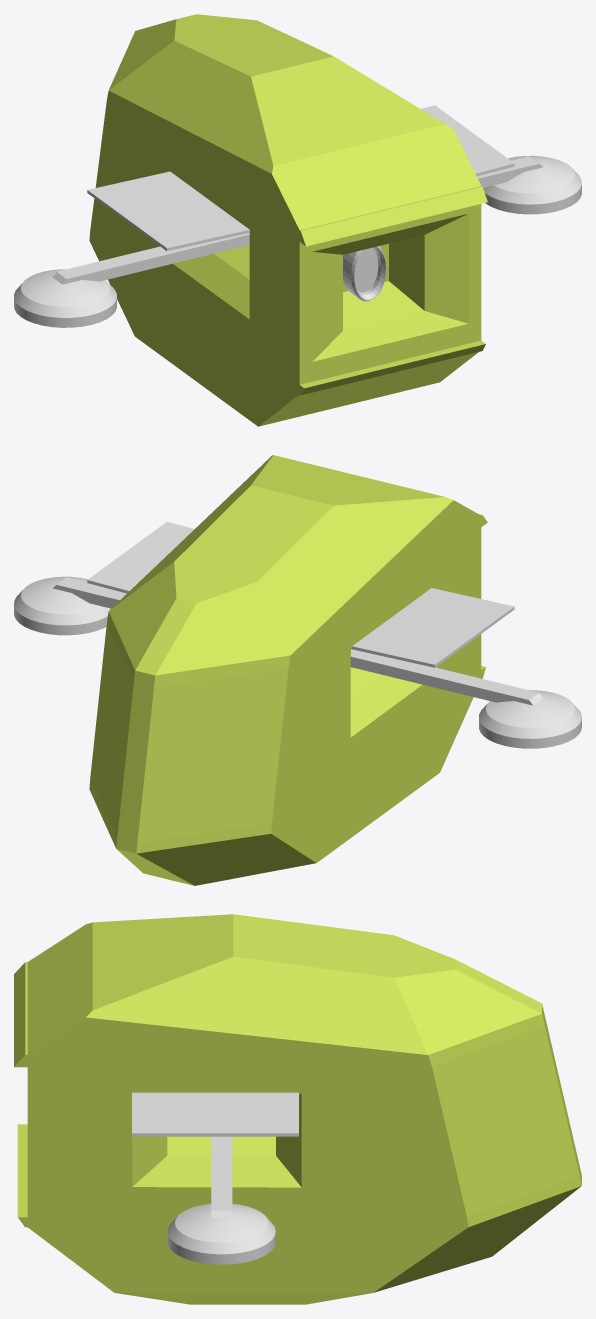
Rendered from shooterdrone.fbx.
3 renders of one model, top to bottom at view 1: azimuth 30°, elevation 25°; view 2: azimuth 150°, elevation 25°; view 3: azimuth 270°, elevation 25°, orthographic. The views are drawn at different scales.
Parts seen in each view (by area): view 1: DroneBody, Flap.001, Engine.001, Engine, EngineExtender.001, Cylinder, Flap, EngineExtender; view 2: DroneBody, Flap.001, Engine.001, Engine, EngineExtender.001, Flap, EngineExtender; view 3: DroneBody, Flap, Engine, EngineExtender.
Boxes of the visible parts, box(x1,y1,x2,y2) form: DroneBody: box(89, 14, 487, 426); Flap.001: box(87, 171, 249, 251); Engine.001: box(14, 269, 116, 327); Engine: box(483, 155, 581, 214); EngineExtender.001: box(52, 233, 249, 284); Cylinder: box(343, 246, 386, 301); Flap: box(421, 105, 514, 176); EngineExtender: box(477, 156, 542, 187); DroneBody: box(89, 455, 487, 885); Flap.001: box(351, 588, 514, 667); Engine.001: box(479, 690, 581, 748); Engine: box(14, 576, 110, 635); EngineExtender.001: box(350, 649, 543, 705); Flap: box(87, 521, 194, 593); EngineExtender: box(53, 577, 126, 608); DroneBody: box(14, 914, 581, 1304); Flap: box(132, 1092, 298, 1136); Engine: box(167, 1203, 275, 1264); EngineExtender: box(211, 1136, 232, 1217).
Bounding box in the file's own units: 261 × 149 × 221.
